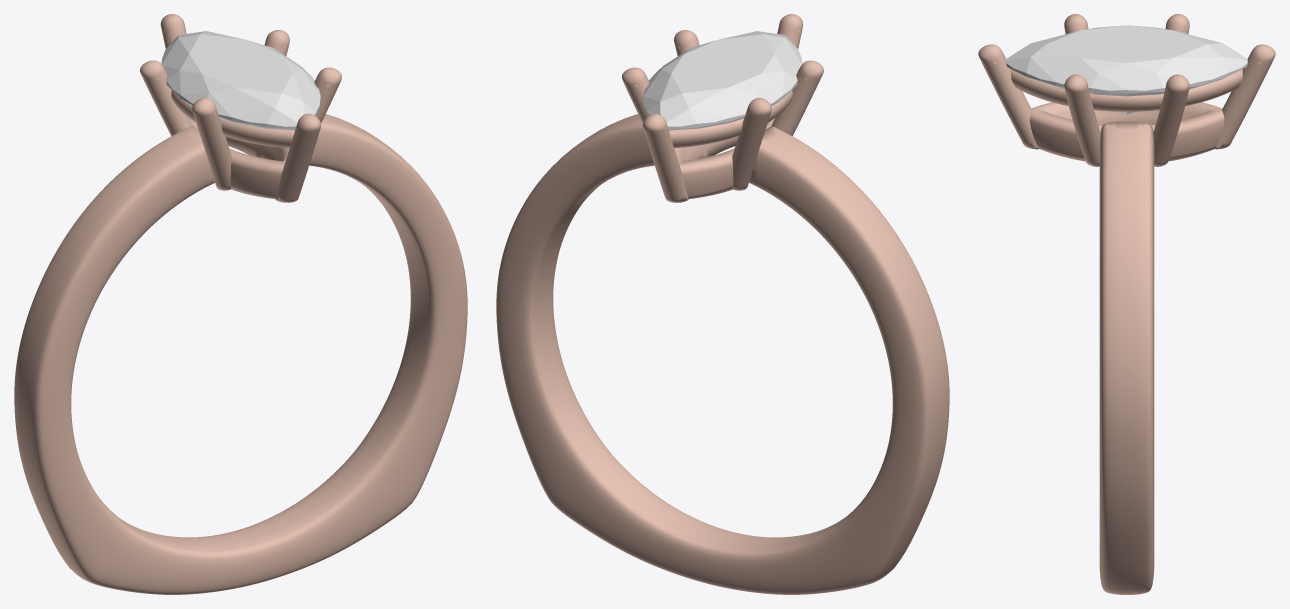
The model's file is diamond-marquise-rosegold-6prong-europeanshank-nosidestones.glb.
3 views of the same model, side by side, from view 1: azimuth 30°, elevation 25°; view 2: azimuth 150°, elevation 25°; view 3: azimuth 270°, elevation 25° (orthographic).
Visible parts, largest first — view 1: metal.001, stone; view 2: metal.001, stone; view 3: metal.001, stone.
Part boxes in pixels (bbox=[...]): metal.001: bbox=[14, 14, 467, 594]; stone: bbox=[161, 31, 320, 130]; metal.001: bbox=[496, 14, 949, 594]; stone: bbox=[643, 31, 802, 130]; metal.001: bbox=[978, 14, 1275, 594]; stone: bbox=[1006, 25, 1247, 114].
Bounding box in the file's own units: 20.1 × 22.73 × 11.96.
